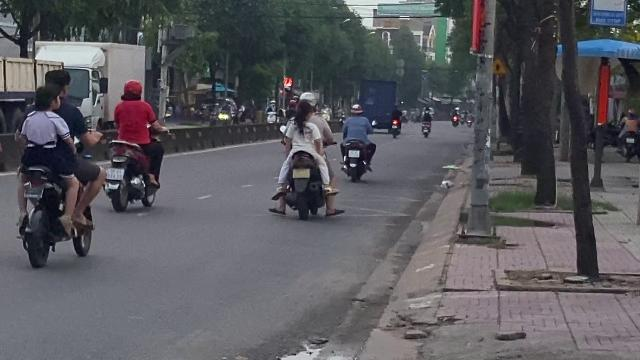helmet: (121, 79, 143, 99), (296, 91, 316, 103)
licenseplate: (106, 168, 124, 180), (293, 168, 309, 178)
motorcyclist: (8, 67, 102, 269), (271, 90, 341, 220), (103, 78, 165, 212)
nohelmet: (45, 68, 71, 96), (34, 85, 60, 113), (295, 100, 315, 120)
